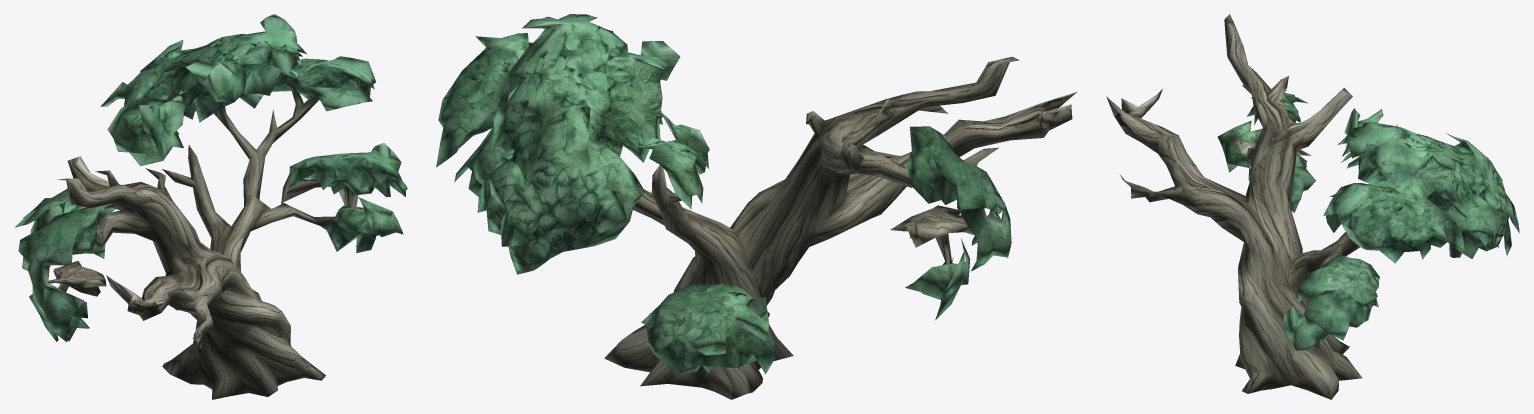
3 views of the same model, side by side, from view 1: azimuth 30°, elevation 25°; view 2: azimuth 150°, elevation 25°; view 3: azimuth 270°, elevation 25° (orthographic). The views are drawn at different scales.
Visible parts, largest first — view 1: Mesh_0; view 2: Mesh_0; view 3: Mesh_0.
Part boxes in pixels (bbox=[...]): Mesh_0: bbox=[15, 14, 407, 399]; Mesh_0: bbox=[436, 14, 1076, 399]; Mesh_0: bbox=[1106, 14, 1519, 399].
Size of the model in its own units: 1.88 by 1.3 by 1.76.
1 material, 1 textured.
